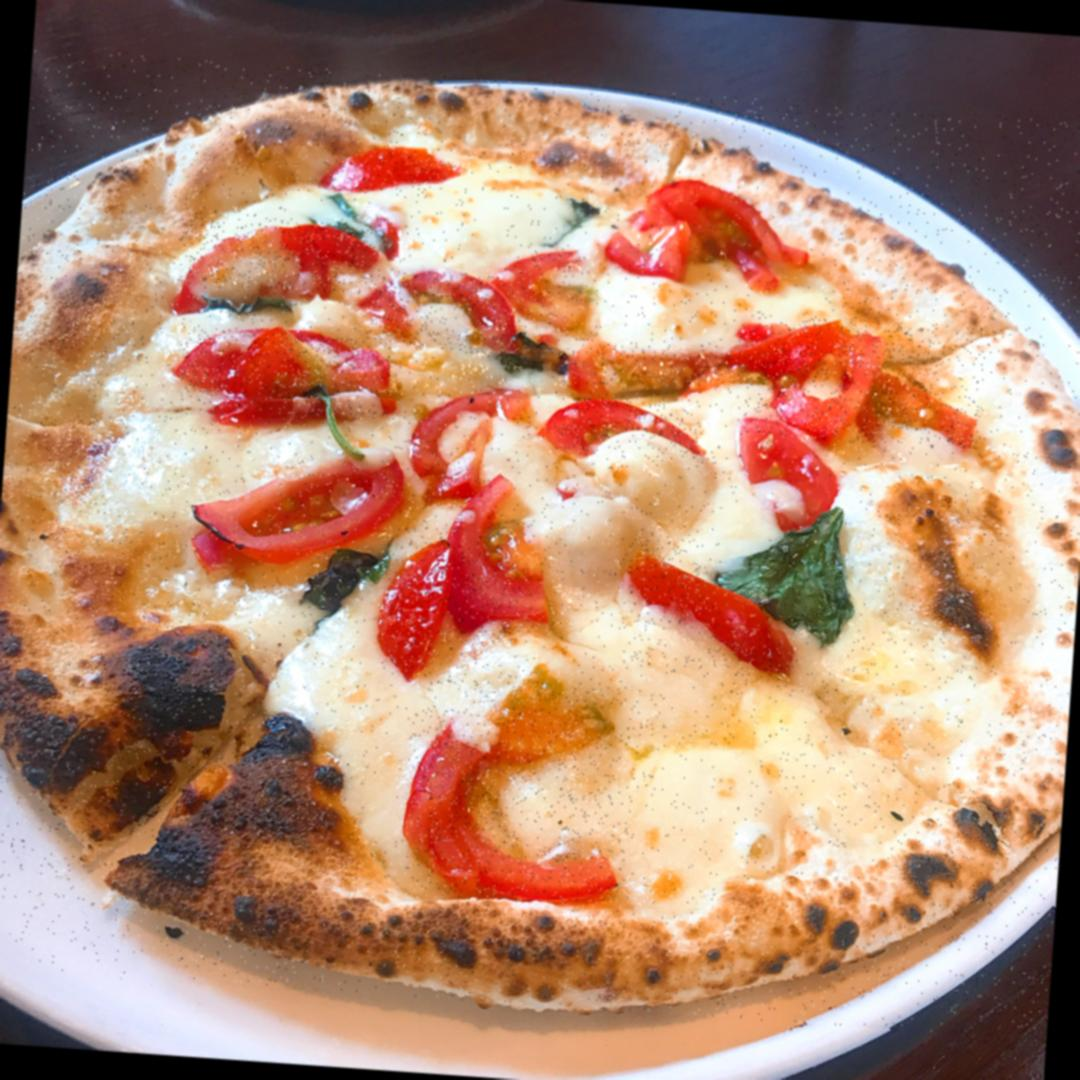Basil: (718, 506, 864, 651)
Pizza: (0, 48, 1080, 1041)
Tomatoes: (402, 672, 646, 908), (738, 310, 988, 453), (186, 442, 404, 579), (388, 500, 548, 681), (603, 164, 807, 292), (622, 535, 789, 681), (178, 327, 392, 420), (177, 209, 385, 297), (416, 386, 547, 503), (366, 268, 528, 360), (742, 399, 834, 538), (551, 338, 748, 399), (559, 392, 700, 465), (497, 246, 590, 340), (324, 150, 448, 199)
